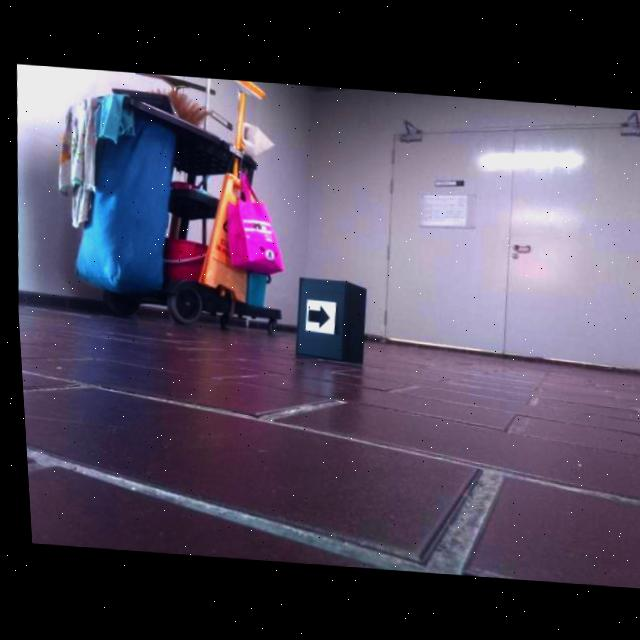RIGHT: (304, 302, 328, 328)
